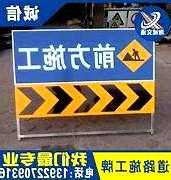sign: (11, 29, 155, 118)
